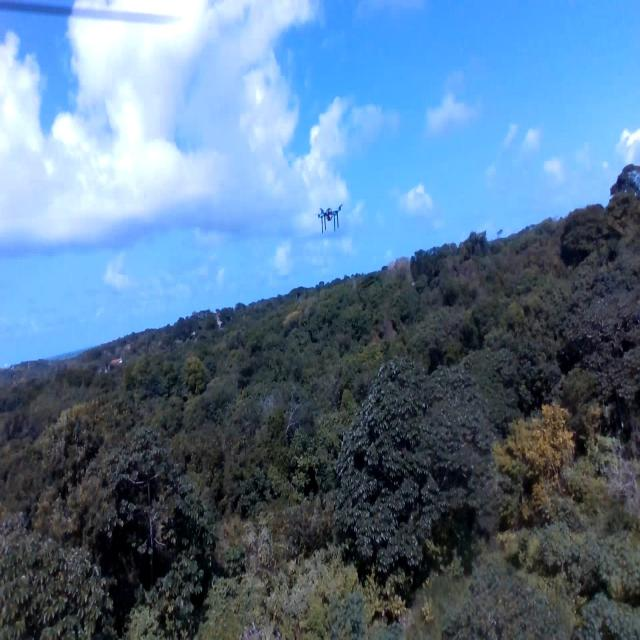-uav-: (310, 196, 348, 244)
